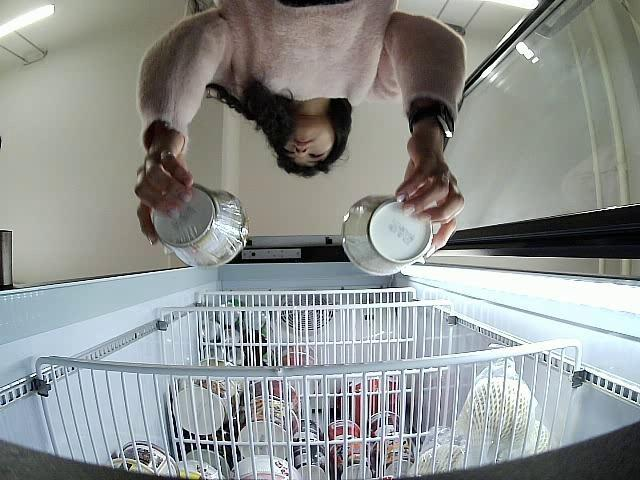04_chapagetti_S: (150, 179, 248, 272), (338, 195, 432, 278)
